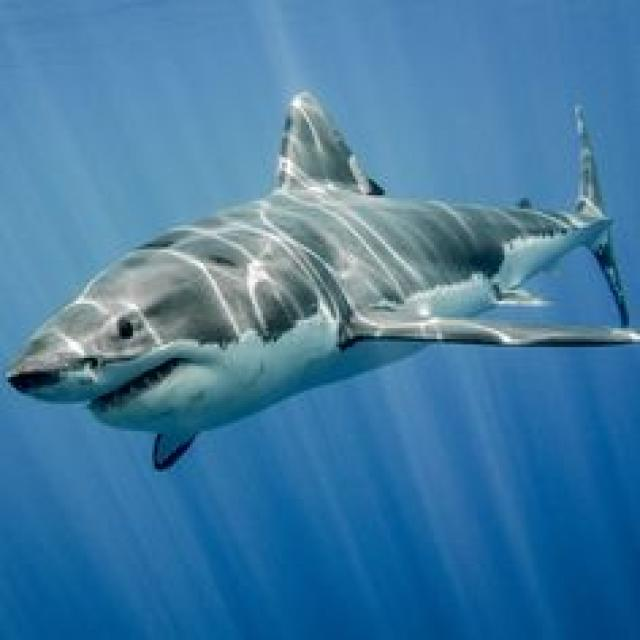Carnivorous: (8, 92, 640, 472)
